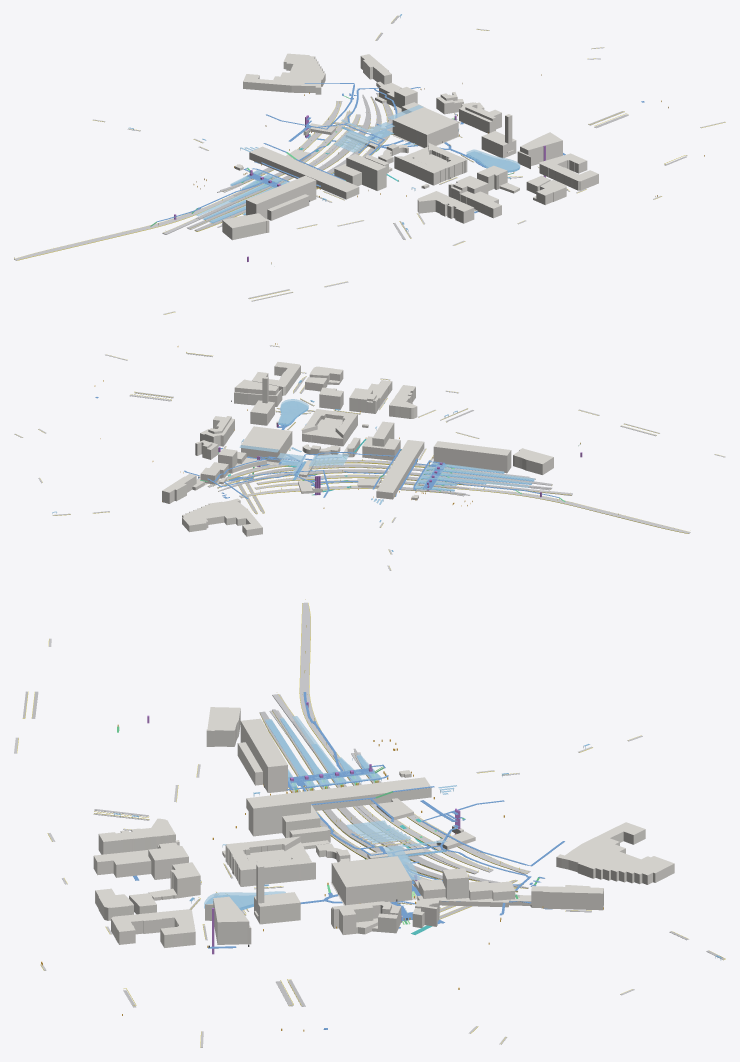
Rendered from bern-bahnhof.glb.
The picture shows the model from 3 angles, top to bottom: view 1: azimuth 30°, elevation 25°; view 2: azimuth 150°, elevation 25°; view 3: azimuth 270°, elevation 25°; orthographic projection. The views are drawn at different scales.
Parts seen in each view (by area): view 1: building_part@x, platform_body@0, platform_surface@0, roof@0, boarding_edge@0, shelter@0, roof@2, passage@2, passage@1; view 2: building_part@x, platform_surface@0, platform_body@0, roof@0, boarding_edge@0, shelter@0, passage@2, passage@1, roof@2; view 3: building_part@x, platform_body@0, platform_surface@0, roof@0, boarding_edge@0, shelter@0, roof@2, passage@1, passage@2.
Boxes of the visible parts, x1=… form: building_part@x: x1=222, y1=53, x2=598, y2=240; platform_body@0: x1=14, y1=28, x2=725, y2=314; platform_surface@0: x1=187, y1=15, x2=686, y2=301; roof@0: x1=196, y1=105, x2=520, y2=222; boarding_edge@0: x1=17, y1=16, x2=725, y2=314; shelter@0: x1=128, y1=14, x2=520, y2=231; roof@2: x1=333, y1=119, x2=394, y2=152; passage@2: x1=243, y1=87, x2=397, y2=180; passage@1: x1=157, y1=87, x2=456, y2=221; building_part@x: x1=162, y1=362, x2=553, y2=536; platform_surface@0: x1=53, y1=353, x2=659, y2=515; platform_body@0: x1=14, y1=345, x2=725, y2=570; roof@0: x1=239, y1=382, x2=534, y2=490; boarding_edge@0: x1=15, y1=345, x2=719, y2=569; shelter@0: x1=52, y1=380, x2=534, y2=551; passage@2: x1=207, y1=449, x2=428, y2=488; passage@1: x1=184, y1=446, x2=559, y2=497; roof@2: x1=277, y1=453, x2=349, y2=473; building_part@x: x1=93, y1=707, x2=674, y2=947; platform_body@0: x1=14, y1=602, x2=642, y2=1047; platform_surface@0: x1=23, y1=691, x2=724, y2=1007; roof@0: x1=190, y1=716, x2=420, y2=907; boarding_edge@0: x1=17, y1=603, x2=725, y2=1047; shelter@0: x1=114, y1=719, x2=721, y2=960; roof@2: x1=346, y1=820, x2=447, y2=861; passage@1: x1=287, y1=692, x2=531, y2=915; passage@2: x1=311, y1=764, x2=531, y2=890.
Size of the model in its own units: 1034 by 82.35 by 695.
